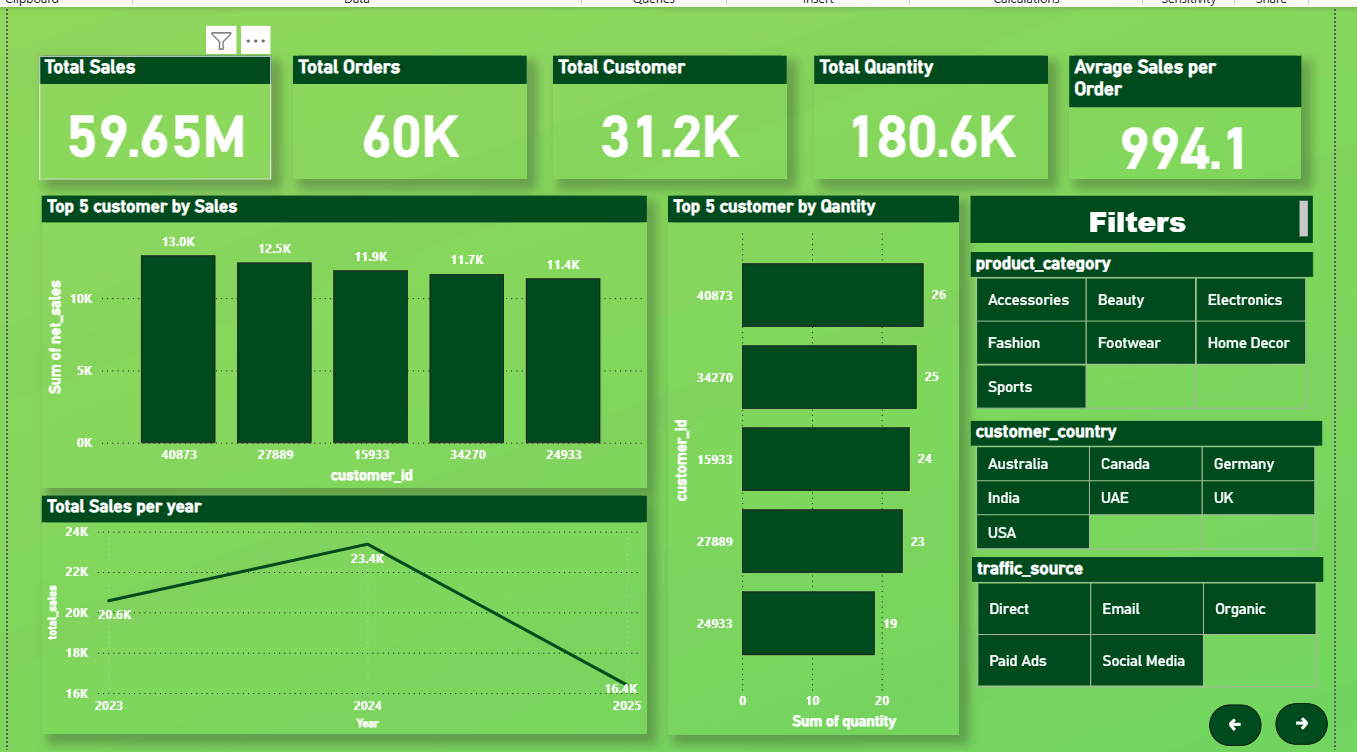

The dashboard page shown, as its layout file describes it:
{"tool":"powerbi","page":{"name":"Customer","canvas":[1280,720],"ordinal":1},"visuals":[{"type":"card","title":"Total Sales","fields":{"Values":["shopify_sales_dataset_ml_eda-selected-columns.total_sales"]},"box":[30.2,47.1,224.4,119.4],"z":0},{"type":"card","title":"Total Orders","fields":{"Values":["shopify_sales_dataset_ml_eda-selected-columns.total_orders"]},"box":[275.1,47.1,225.6,119.4],"z":1000},{"type":"card","title":"Total Customer","fields":{"Values":["Count(shopify_sales_dataset_ml_eda-selected-columns.customer_id)"]},"box":[526,47.1,225.6,119.4],"z":2000},{"type":"clusteredColumnChart","title":"Top 5 customer by Sales","fields":{"Category":["shopify_sales_dataset_ml_eda-selected-columns.customer_id"],"Y":["Sum(shopify_sales_dataset_ml_eda-selected-columns.net_sales)"]},"box":[32.6,182.2,583.9,282.3],"z":3000},{"type":"card","title":"Total Quantity","fields":{"Values":["Sum(shopify_sales_dataset_ml_eda-selected-columns.quantity)"]},"box":[778.2,47.1,225.6,119.4],"z":4000},{"type":"card","title":"Avrage Sales per Order","fields":{"Values":["shopify_sales_dataset_ml_eda-selected-columns.avg_order_sales"]},"box":[1024.3,47.1,224.4,119.4],"z":5000},{"type":"clusteredBarChart","title":"Top 5 customer by Qantity","fields":{"Category":["shopify_sales_dataset_ml_eda-selected-columns.customer_id"],"Y":["Sum(shopify_sales_dataset_ml_eda-selected-columns.quantity)"]},"box":[637,182.2,281.1,520],"z":6000},{"type":"lineChart","title":"Total Sales per year","fields":{"Y":["shopify_sales_dataset_ml_eda-selected-columns.total_sales"],"Category":["shopify_sales_dataset_ml_eda-selected-columns.order_date.Variation.Date Hierarchy.Year"]},"box":[32.6,471.7,583.9,230.4],"z":7000},{"type":"advancedSlicerVisual","fields":{"Values":["shopify_sales_dataset_ml_eda-selected-columns.product_category"]},"box":[929,236.5,330.6,158],"z":7001},{"type":"advancedSlicerVisual","fields":{"Values":["shopify_sales_dataset_ml_eda-selected-columns.customer_country"]},"box":[929,399.3,339,131.5],"z":7002},{"type":"textbox","box":[929,182.2,330.6,45.8],"z":7003},{"type":"actionButton","box":[1223.3,672,50.7,39.8],"z":7004},{"type":"advancedSlicerVisual","fields":{"Values":["shopify_sales_dataset_ml_eda-selected-columns.traffic_source"]},"box":[930.2,530.8,339,131.5],"z":7005},{"type":"actionButton","box":[1159.4,673.2,50.7,39.8],"z":7007}]}

Visuals, with their boxes on the page's 1280x720 design canvas (x1, y1, x2, y2). These are canvas units, not pixel positions in the 1357x752 screenshot, which may show the page scaled, cropped or inside an application window:
"Total Sales" card: crop(30, 47, 255, 166)
"Total Orders" card: crop(275, 47, 501, 166)
"Total Customer" card: crop(526, 47, 752, 166)
"Top 5 customer by Sales" clusteredColumnChart: crop(33, 182, 616, 464)
"Total Quantity" card: crop(778, 47, 1004, 166)
"Avrage Sales per Order" card: crop(1024, 47, 1249, 166)
"Top 5 customer by Qantity" clusteredBarChart: crop(637, 182, 918, 702)
"Total Sales per year" lineChart: crop(33, 472, 616, 702)
advancedSlicerVisual - shopify_sales_dataset_ml_eda-selected-columns.product_category: crop(929, 236, 1260, 394)
advancedSlicerVisual - shopify_sales_dataset_ml_eda-selected-columns.customer_country: crop(929, 399, 1268, 531)
textbox: crop(929, 182, 1260, 228)
actionButton: crop(1223, 672, 1274, 712)
advancedSlicerVisual - shopify_sales_dataset_ml_eda-selected-columns.traffic_source: crop(930, 531, 1269, 662)
actionButton: crop(1159, 673, 1210, 713)
